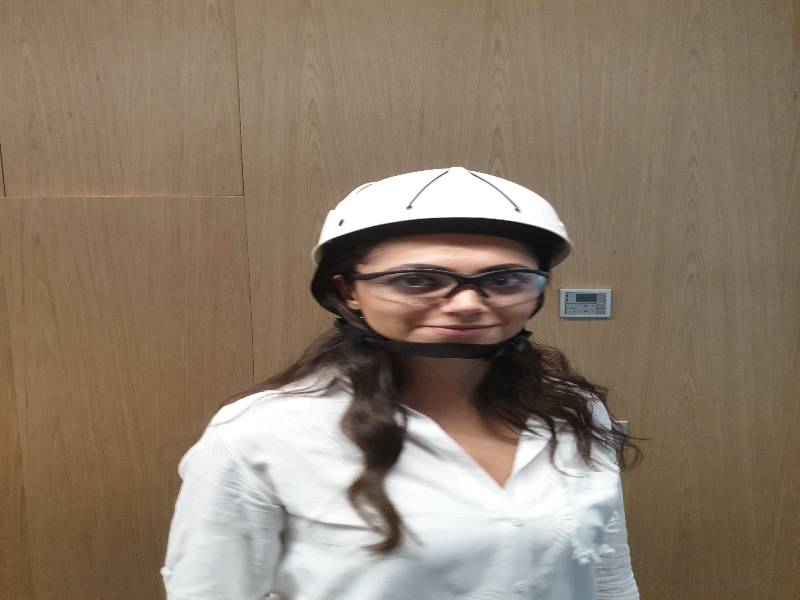Baret: (311, 167, 572, 250)
Gozluk: (350, 269, 550, 303)
